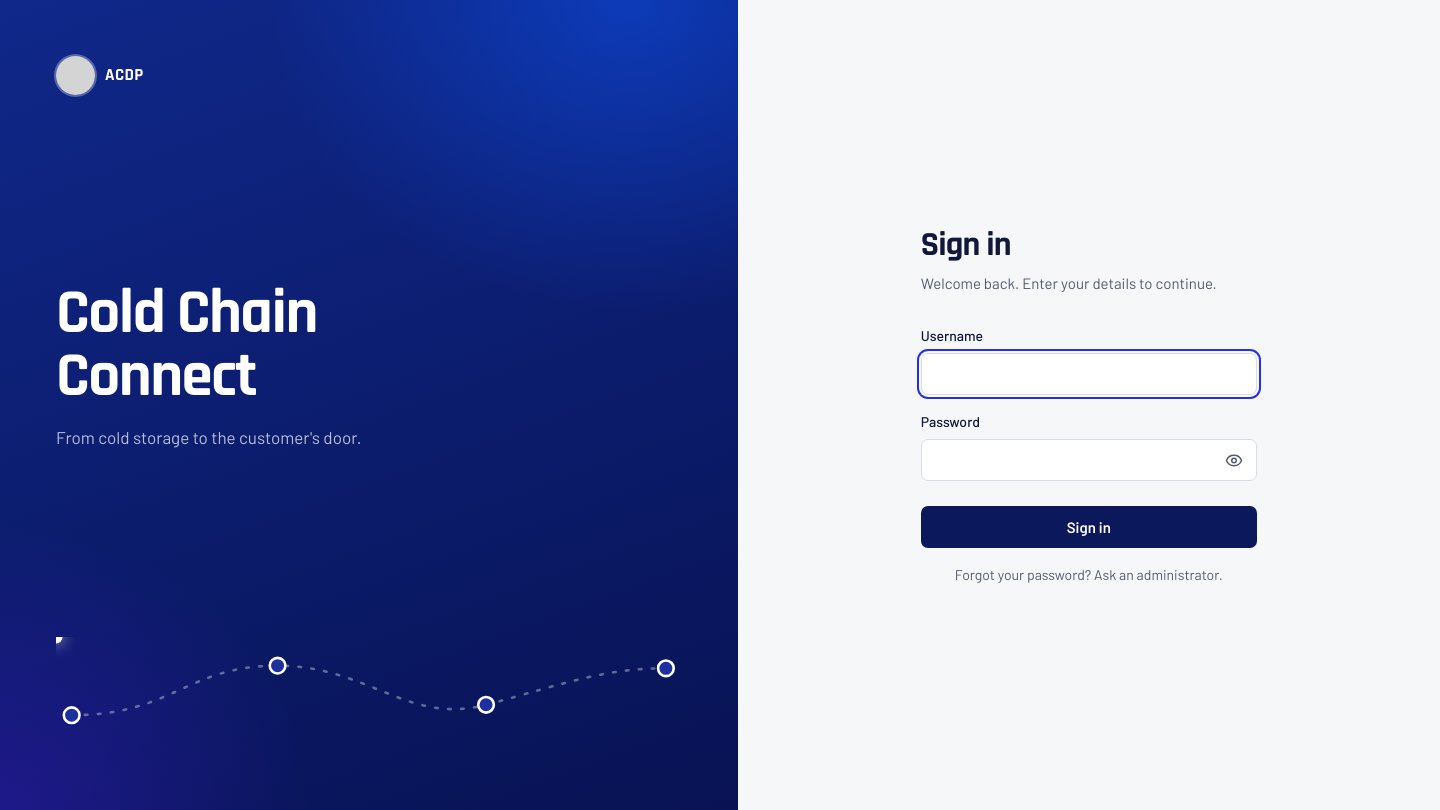
it: sign-in feedback › keeps invalid credentials distinct from database errors
This screenshot has width=1440, height=810.
In the field labelled "Username": [1089, 374] box [921,352,1257,394], type "test-user"
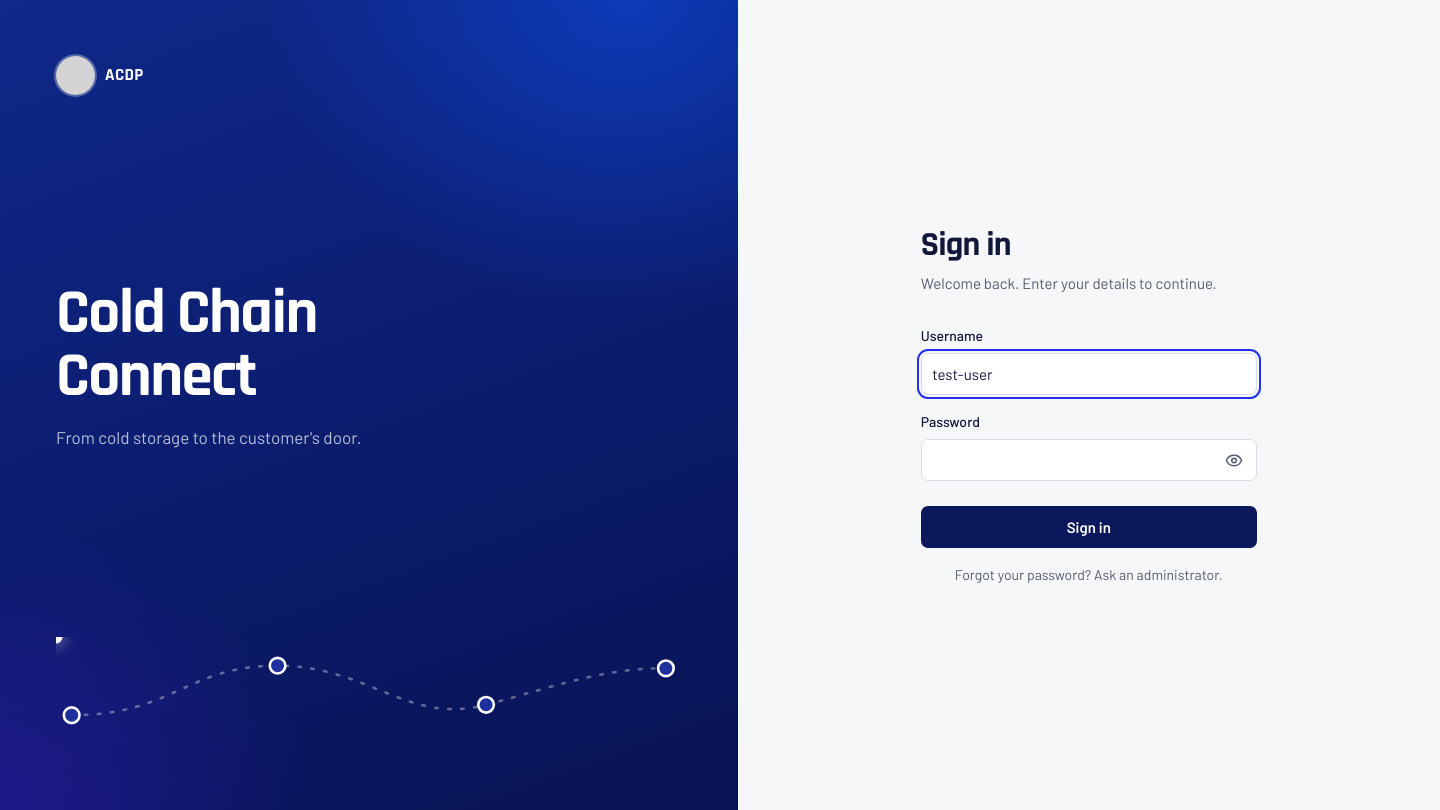
In the password field labelled "Password": [1089, 460] box [921,439,1257,481], type "test-password"
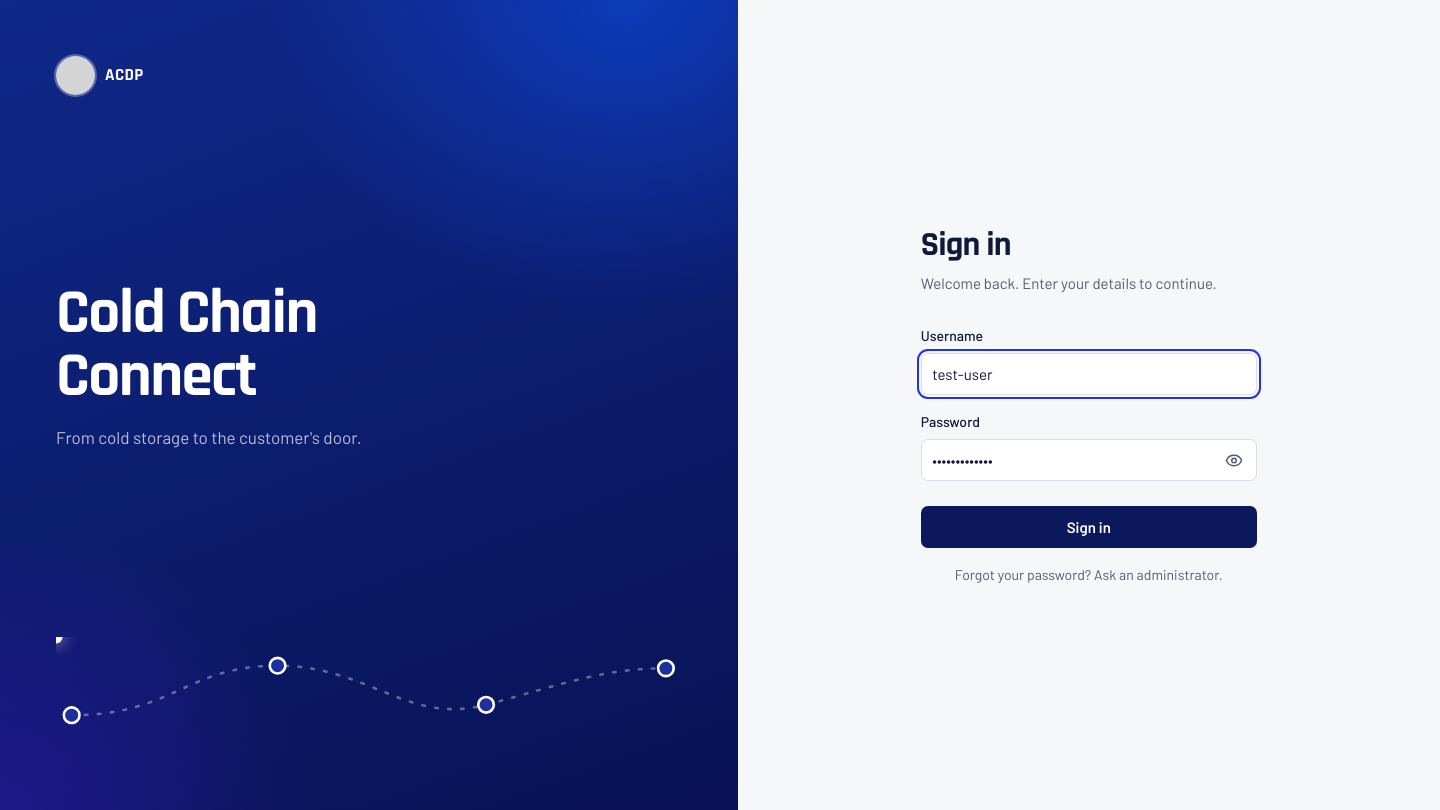
Click the button "Sign in": [1089, 526] box [921,506,1257,548]
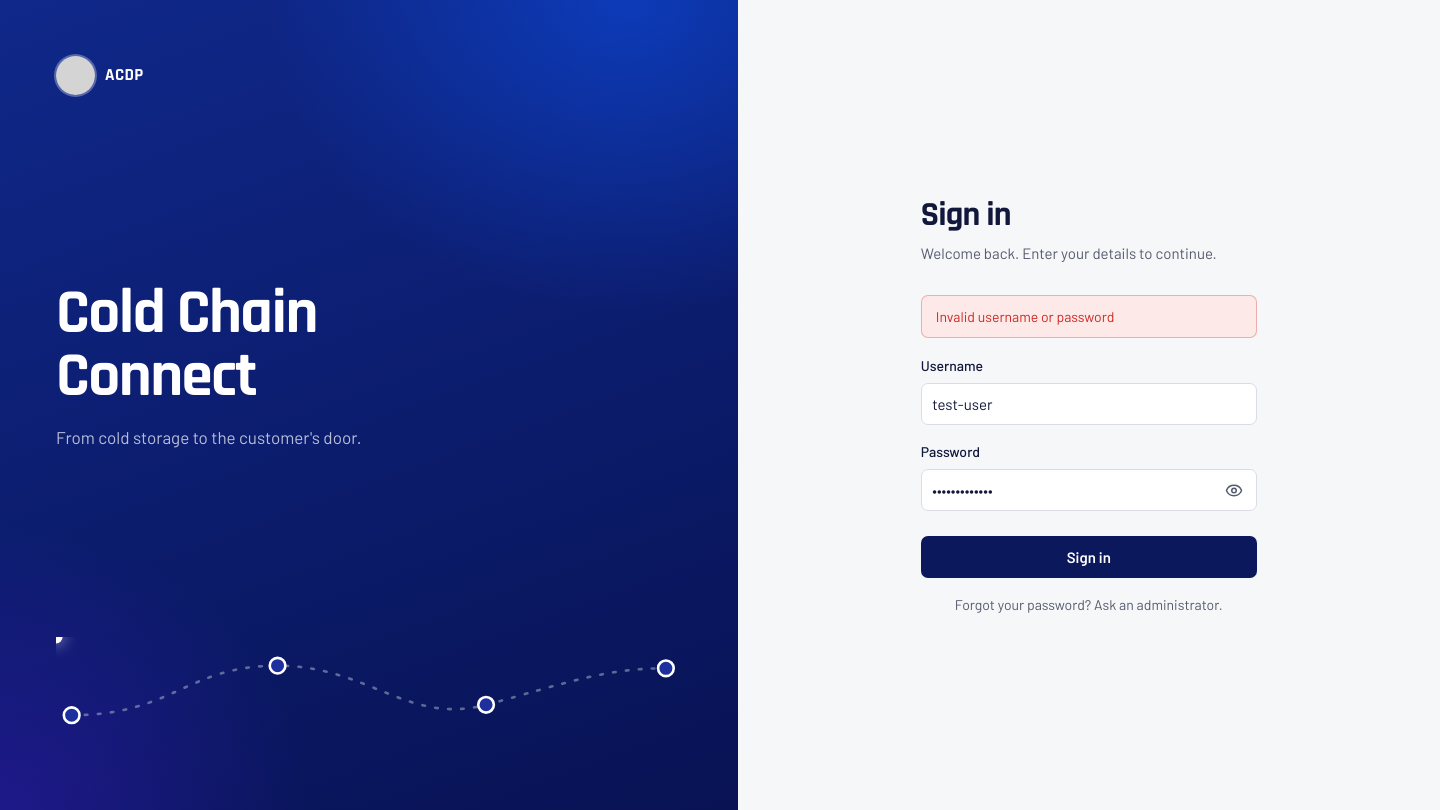
Check: the message reads "Invalid username or password", box [936,308,1114,325]
